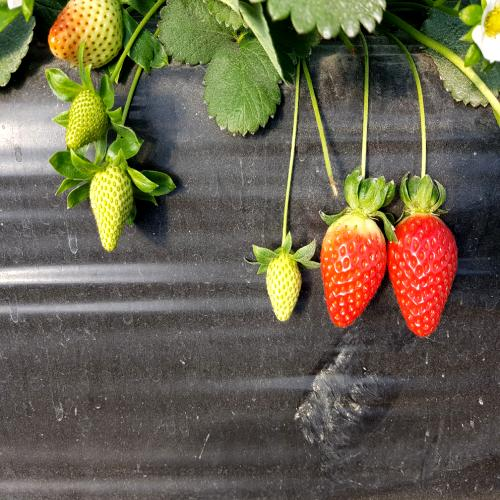partially-ripe: (44, 0, 130, 86)
ripe: (388, 206, 460, 349), (321, 207, 389, 342)
